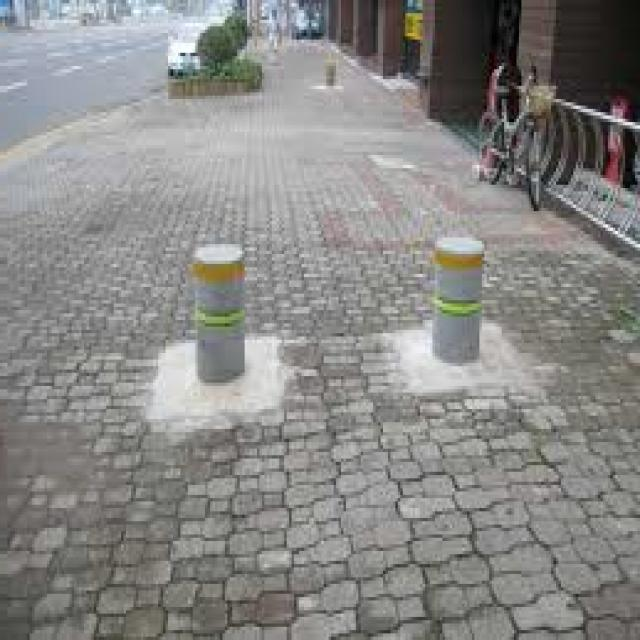bollard: (185, 236, 251, 392), (426, 232, 489, 366)
